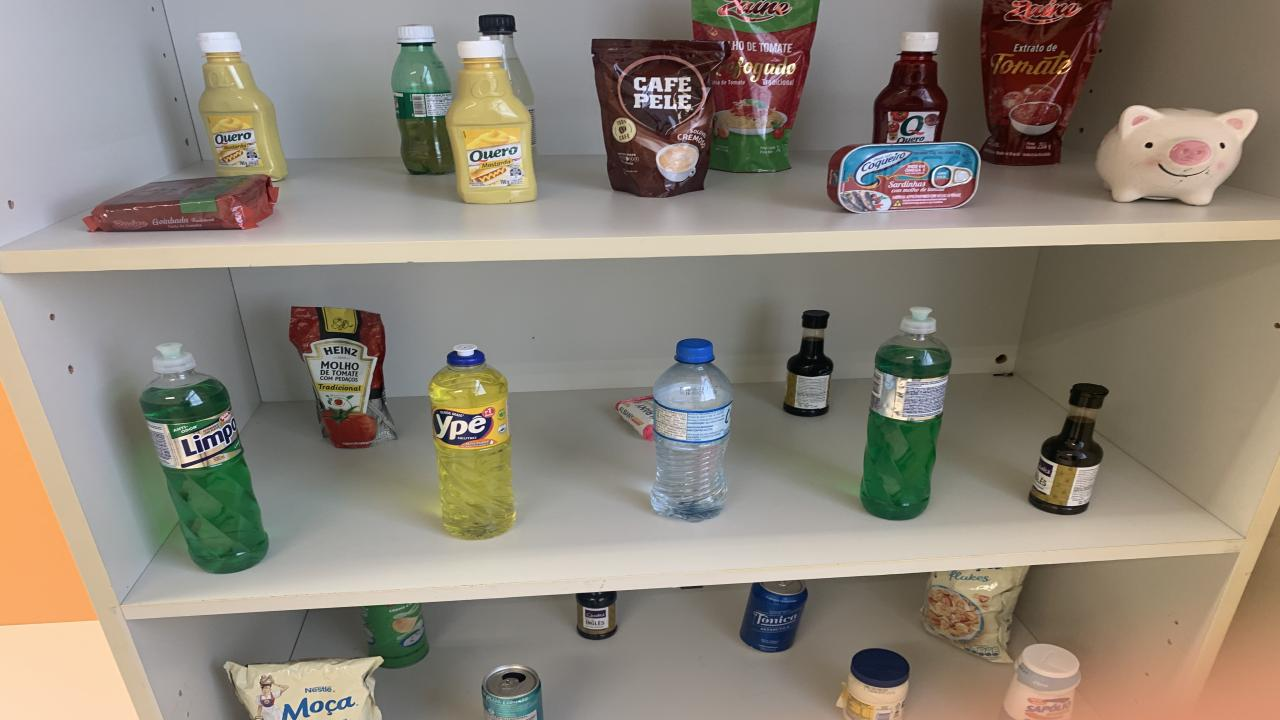Cleaner-Cleanup_Items: (1002, 645, 1080, 720)
Coffee-Pantry_Items: (592, 39, 730, 197)
Detergent-Cleanup_Items: (140, 343, 268, 574), (860, 308, 950, 519), (430, 345, 515, 540)
English_Sauce-Pantry_Items: (1028, 384, 1108, 514), (782, 309, 832, 416), (575, 591, 618, 639)
Flakes-Snacks: (922, 566, 1028, 664), (225, 656, 382, 720)
Guarana-Drinks: (390, 26, 455, 174)
Guava-Snacks: (82, 174, 278, 232)
Ketchup-Pantry_Items: (872, 32, 948, 144)
Mayonnaise-Pantry_Items: (838, 649, 910, 720)
Mustard-Pantry_Items: (445, 39, 538, 204), (198, 32, 288, 180)
Pig_Safe-Miscellaneous: (1098, 105, 1258, 206)
Pringles-Snacks: (360, 604, 428, 668)
Soap-Cleanup_Items: (615, 396, 655, 441)
Soda-Drinks: (480, 15, 538, 154)
Tea-Drinks: (482, 666, 542, 720)
Tomato_Sauce-Pantry_Items: (692, 0, 820, 172), (980, 0, 1110, 165), (290, 308, 395, 448)
Tonic-Drinks: (740, 581, 808, 652)
Tuna_Can-Pantry_Items: (828, 142, 980, 214)
Water_Bottle-Drinks: (650, 339, 732, 521)
